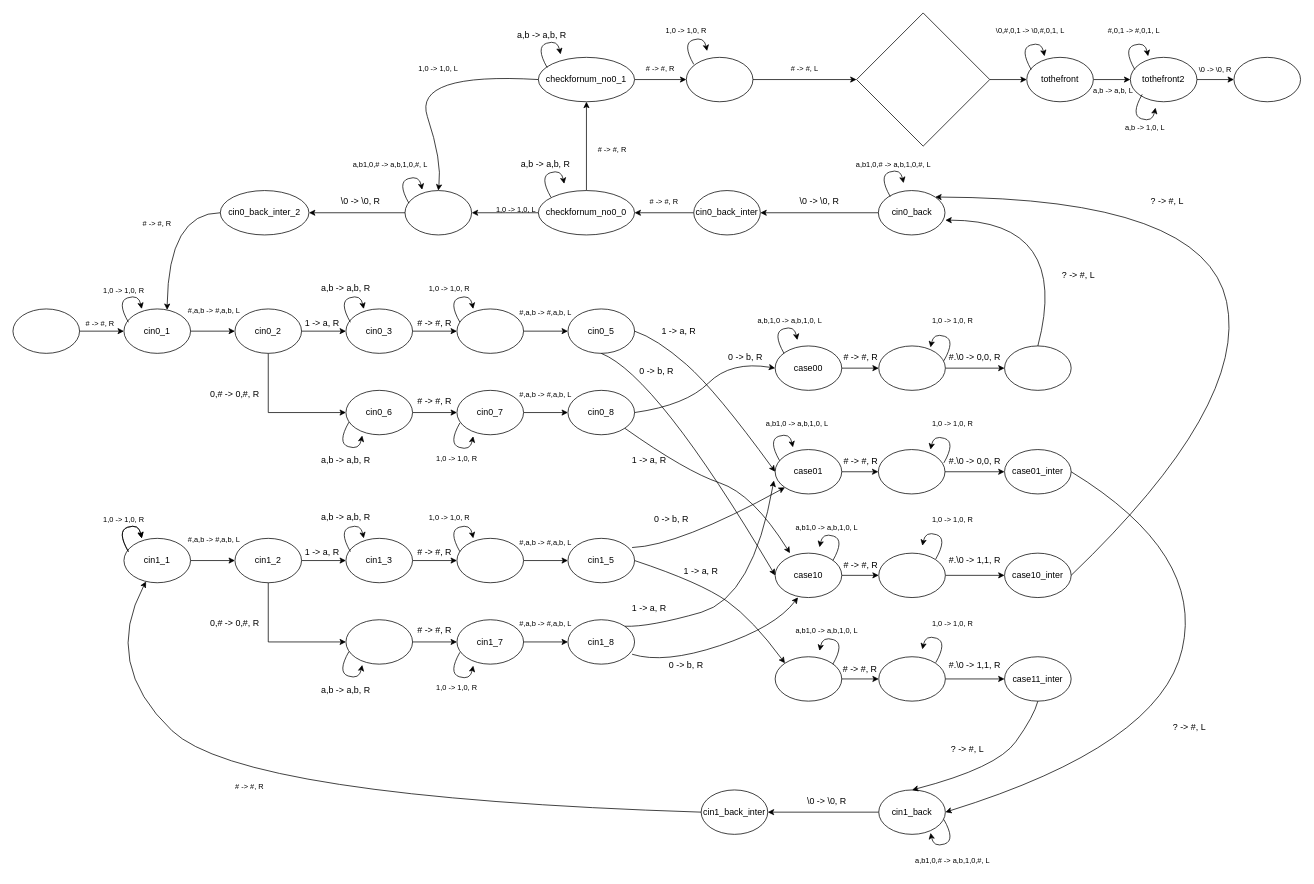
This 1314x884 diagram has some shape labels left out. Here are the shapes that lost their labels. From the top down, the centre of each, then its label:
At [719,79]: "move_0".
At [923,79]: "REVERSE".
At [1267,79]: "stop".
At [438,212]: "cin0_back_2".
At [46,330]: "Start".
At [490,330]: "cin0_4".
At [911,367]: "case00_0".
At [1037,367]: "case00_inter".
At [911,471]: "case01_0".
At [490,560]: "cin1_4".
At [911,575]: "case10_0".
At [379,641]: "cin1_6".
At [808,678]: "case11".
At [911,678]: "case11_0".
